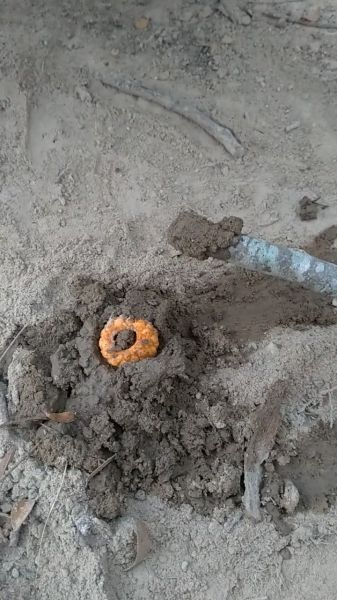eggs: (96, 313, 165, 373)
